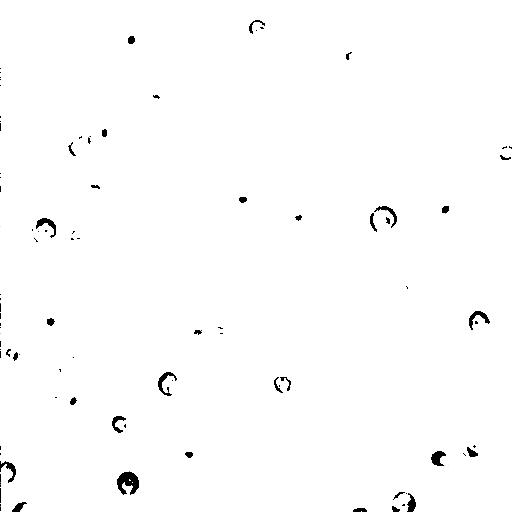micro-algae: (291, 101, 405, 211), (112, 59, 218, 165), (357, 53, 452, 146), (298, 9, 370, 80), (233, 102, 303, 172), (374, 128, 433, 189), (92, 382, 141, 430), (38, 290, 84, 336), (145, 452, 191, 498), (8, 100, 49, 144), (91, 0, 154, 25), (373, 469, 413, 508), (1, 1, 23, 64), (182, 321, 218, 356), (80, 174, 111, 208), (460, 428, 491, 460), (369, 204, 398, 236), (27, 217, 57, 245), (36, 310, 65, 338), (430, 199, 460, 226), (114, 470, 142, 497), (124, 334, 154, 359), (339, 45, 369, 69), (286, 201, 313, 227), (261, 337, 287, 363), (67, 132, 92, 158), (389, 490, 418, 512), (468, 309, 493, 334), (58, 385, 82, 411), (4, 345, 27, 372), (65, 221, 91, 244), (158, 372, 181, 398), (119, 28, 143, 52), (56, 353, 80, 377), (162, 485, 186, 509), (83, 50, 108, 73), (429, 448, 457, 468), (311, 319, 335, 341), (93, 120, 114, 144), (395, 275, 416, 298), (177, 442, 200, 463), (275, 86, 295, 107), (2, 460, 18, 486), (274, 375, 294, 395), (8, 500, 40, 512), (248, 18, 267, 37), (112, 414, 128, 435), (439, 65, 454, 80), (499, 144, 512, 161), (237, 194, 249, 206), (351, 506, 369, 512)
